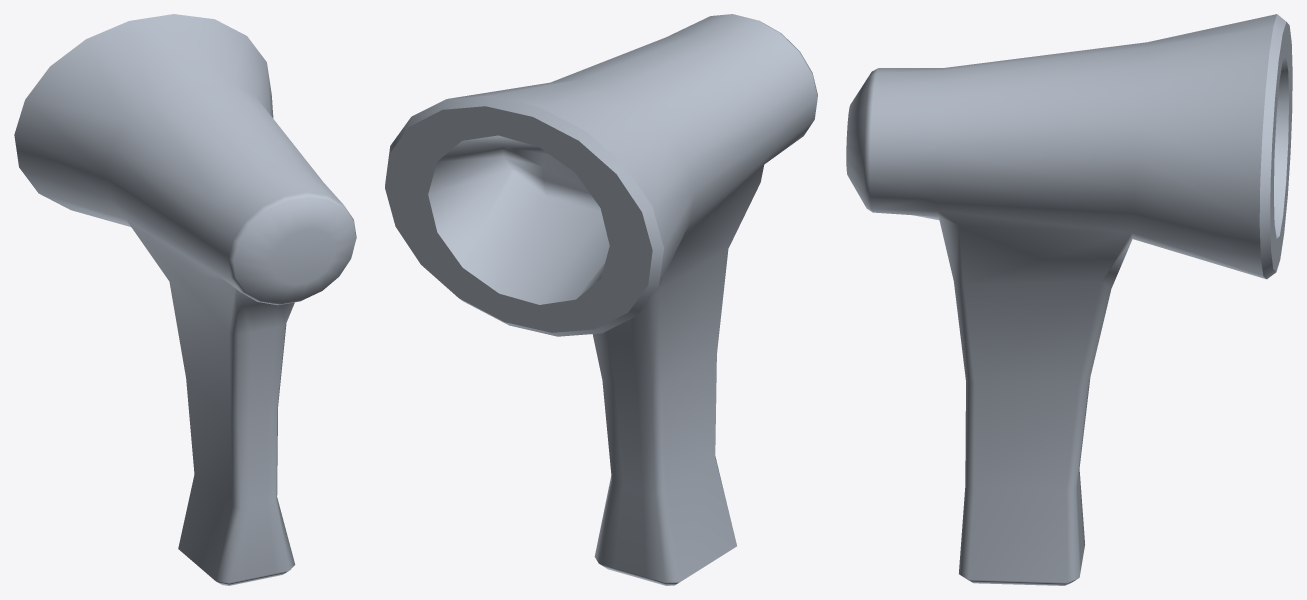
File: bar code .fbx
3 views of the same model, side by side, from view 1: azimuth 30°, elevation 25°; view 2: azimuth 150°, elevation 25°; view 3: azimuth 270°, elevation 25° (orthographic). The views are drawn at different scales.
Parts seen in each view (by area): view 1: pCube1; view 2: pCube1; view 3: pCube1.
Boxes of the visible parts, x1,y1,x2,y2 form: pCube1: [14, 14, 356, 585]; pCube1: [385, 14, 817, 585]; pCube1: [846, 14, 1292, 585].
Size of the model in its own units: 3.91 by 7.02 by 5.25.
